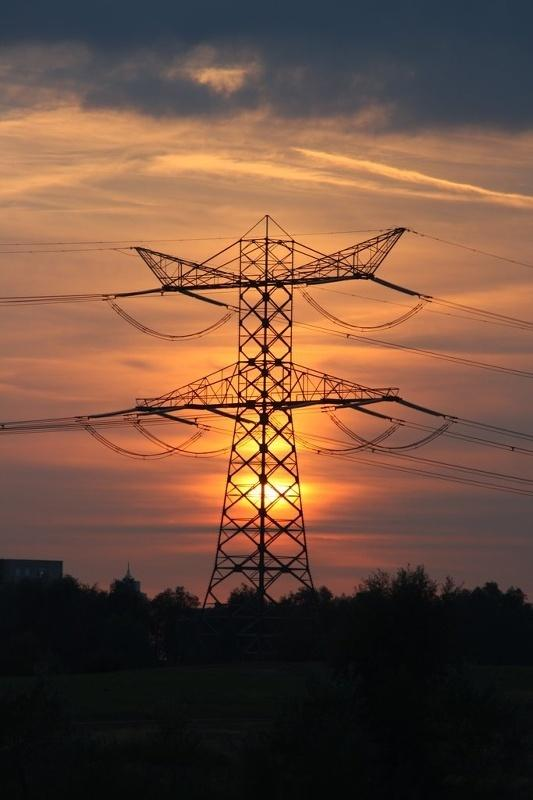power_tower: (142, 219, 383, 594)
